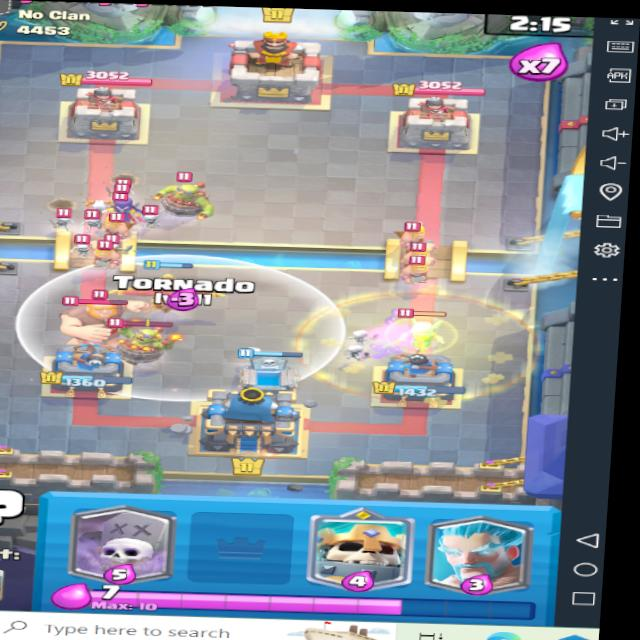barbarian: (86, 211, 151, 240), (382, 217, 438, 249), (394, 253, 445, 287), (81, 234, 131, 267), (389, 239, 446, 266)
battle-healer: (385, 304, 462, 357)
giant: (53, 288, 151, 349)
goblin-demolisher: (153, 167, 241, 220), (100, 314, 188, 366)
skeleton: (75, 208, 112, 234), (51, 212, 76, 232), (138, 206, 162, 226), (68, 237, 93, 255), (77, 212, 105, 227)
witch: (94, 183, 157, 228)
